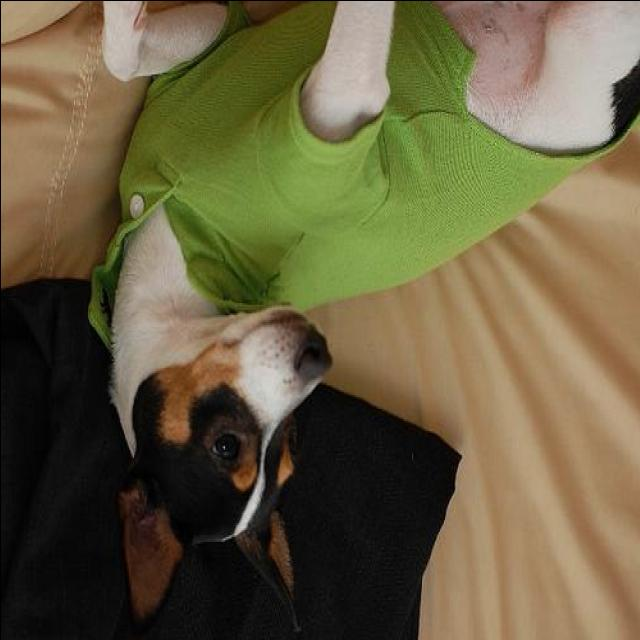toy_terrier: (111, 2, 640, 614)
